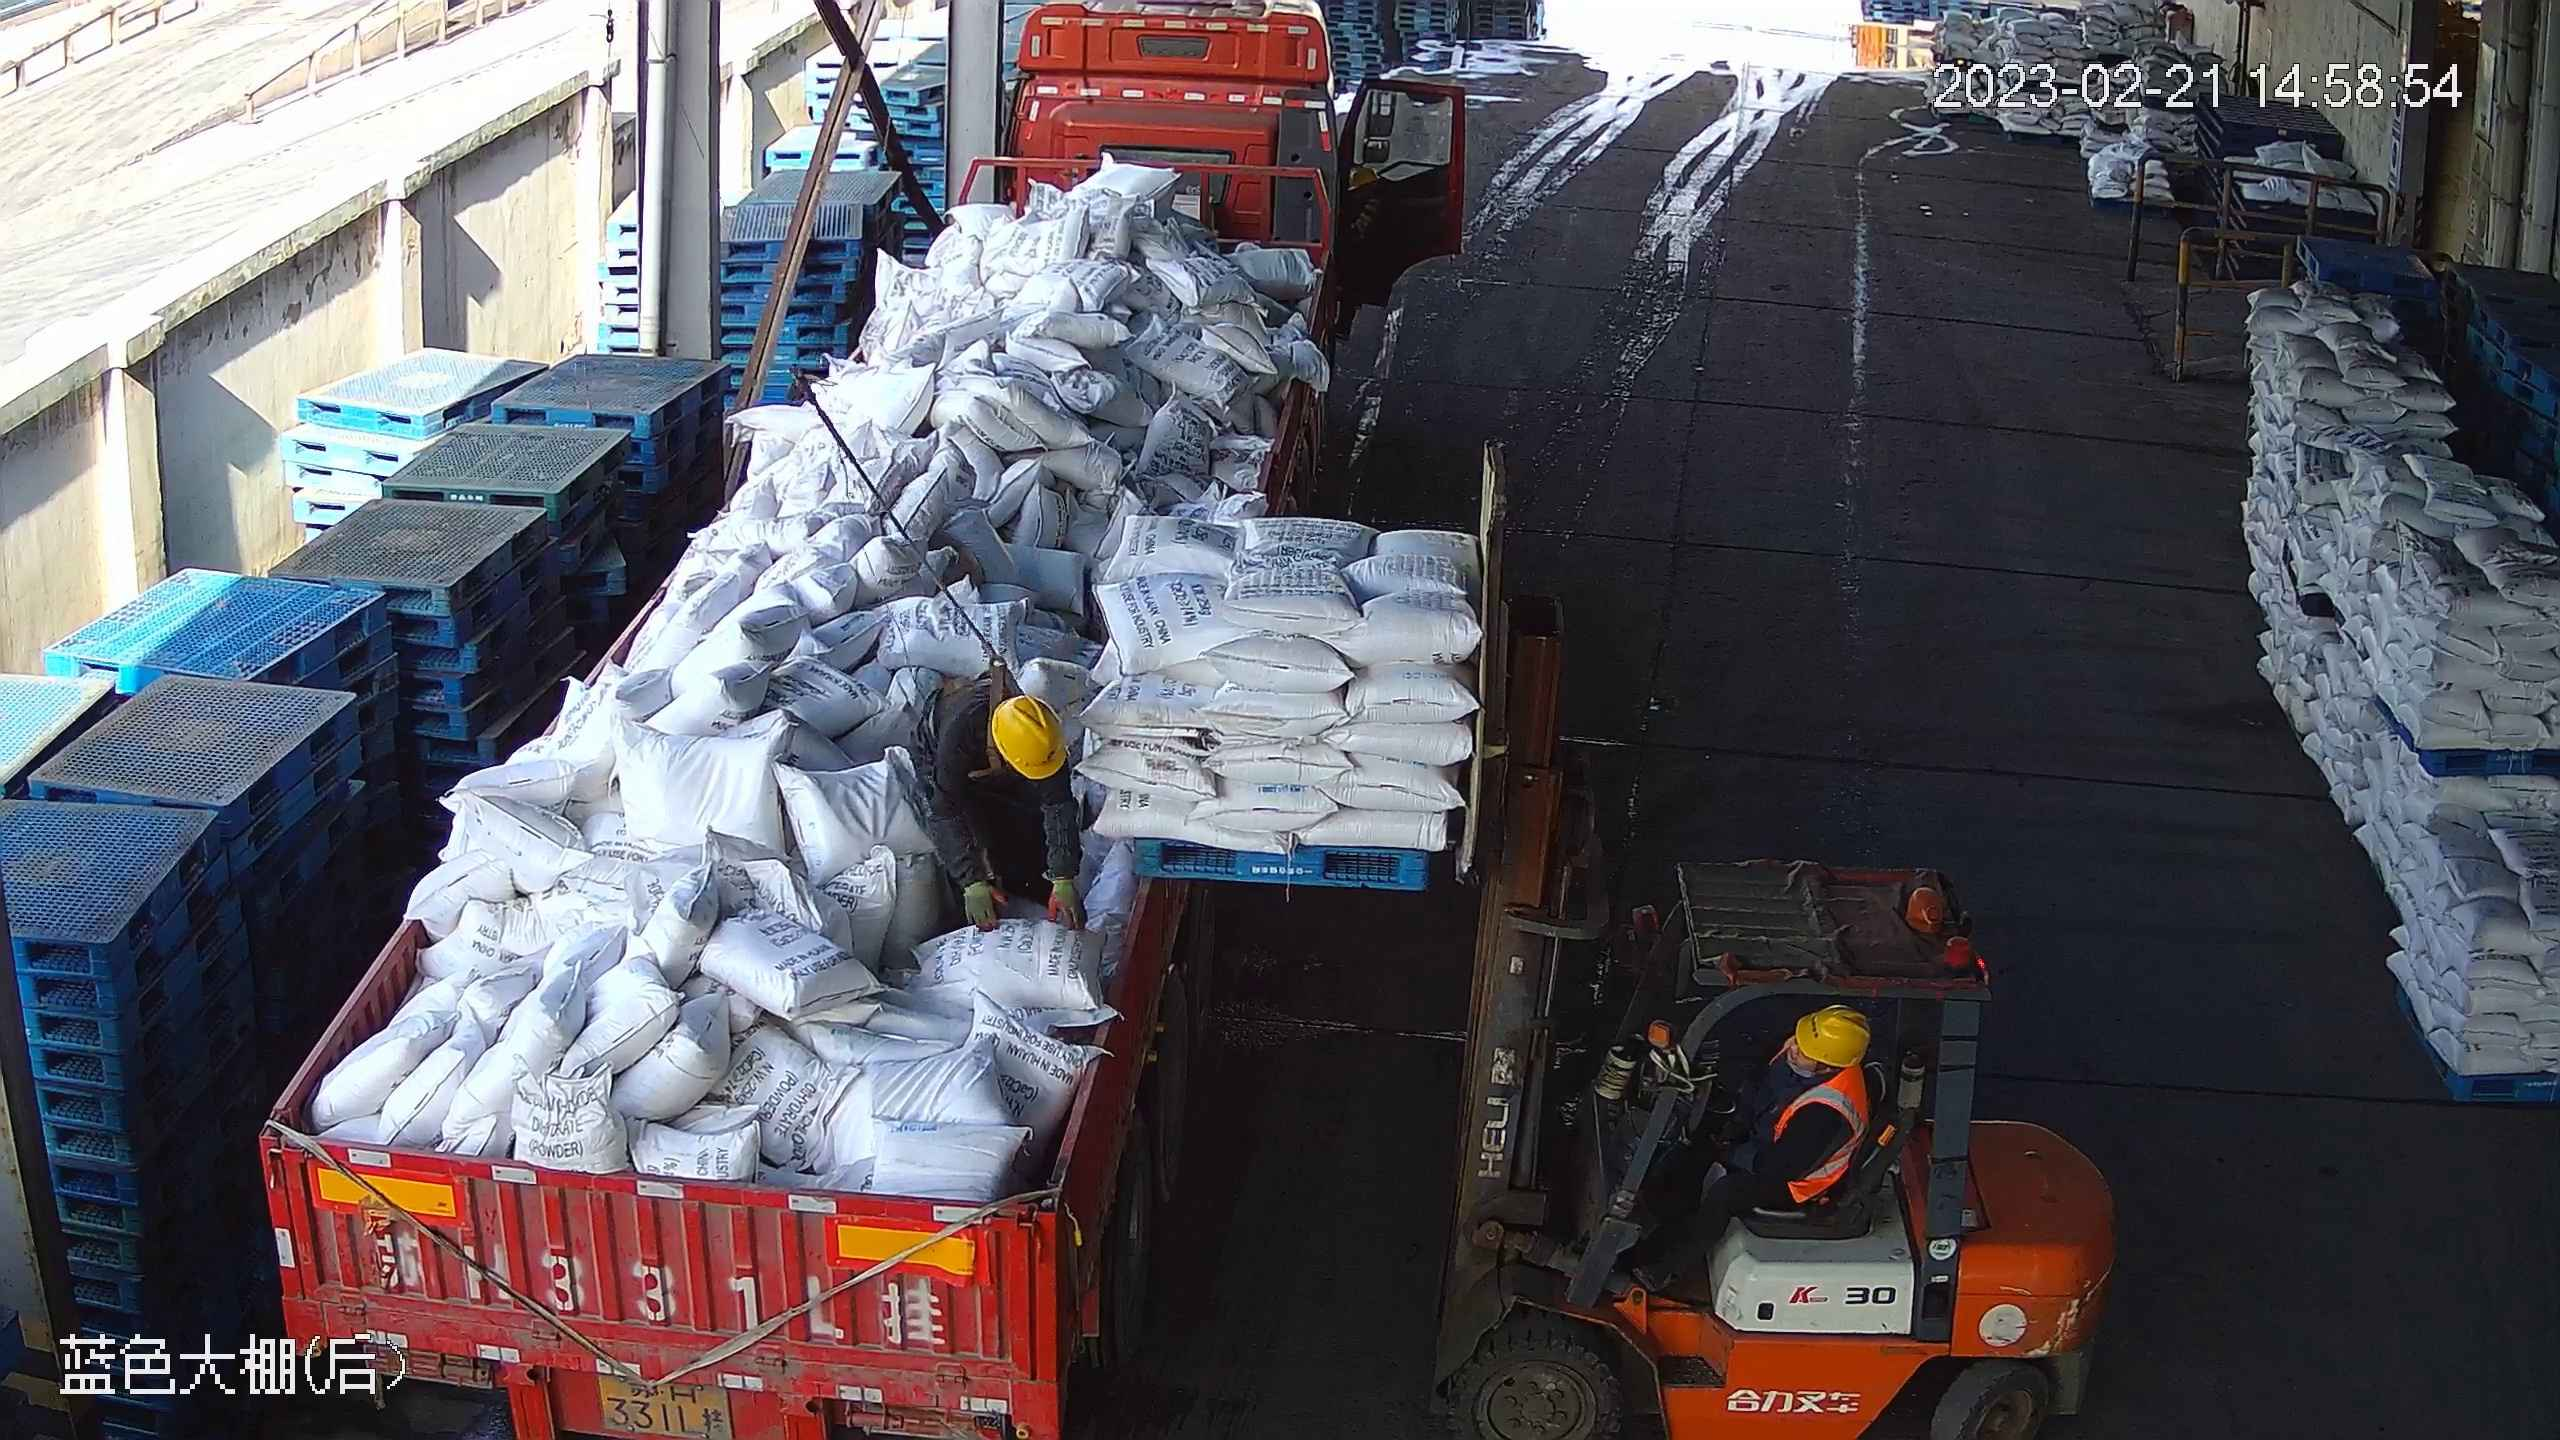belt: (971, 639, 1018, 786)
head: (1737, 1004, 1873, 1152), (944, 679, 1073, 800), (1335, 166, 1397, 238)
helmet: (991, 698, 1071, 779), (1793, 1005, 1873, 1069), (1345, 168, 1379, 189)
people: (1612, 1003, 1878, 1308), (901, 669, 1093, 932), (1330, 167, 1396, 342)
truck: (249, 13, 1474, 1440)
